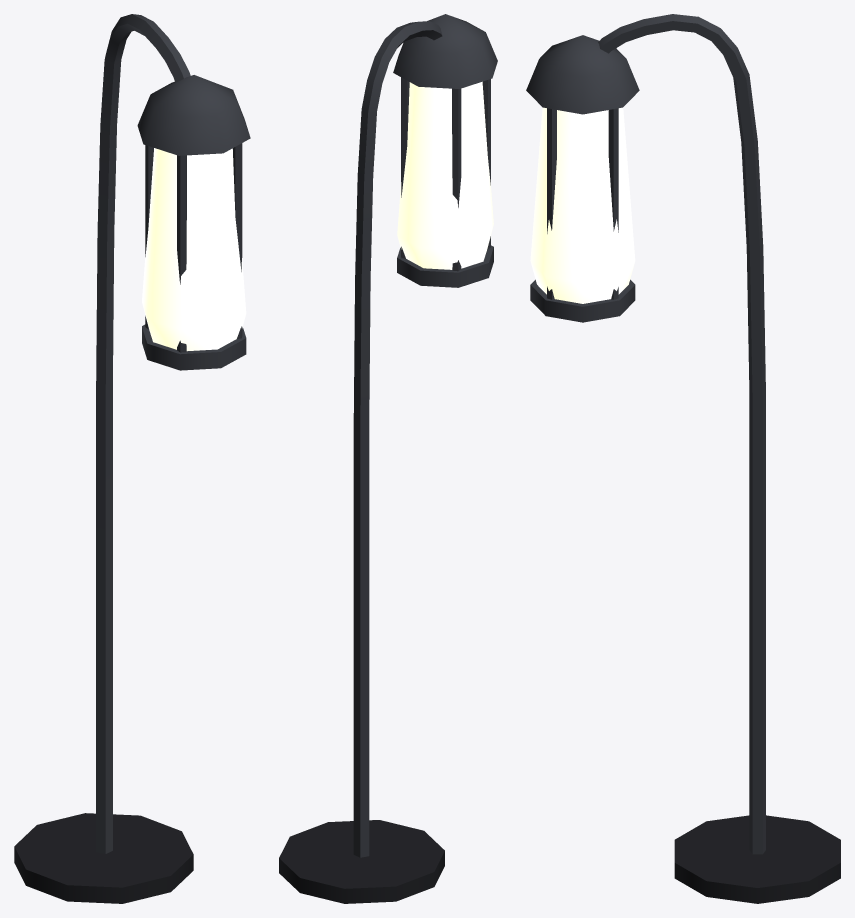
The model's file is garden_lantern_hook.glb.
The picture shows the model from 3 angles, left to right: view 1: azimuth 30°, elevation 25°; view 2: azimuth 150°, elevation 25°; view 3: azimuth 270°, elevation 25°; orthographic projection. The views are drawn at different scales.
Parts seen in each view (by area): view 1: garden_lantern_hook; view 2: garden_lantern_hook; view 3: garden_lantern_hook.
Boxes of the visible parts, x1,y1,x2,y2 form: garden_lantern_hook: (14,14,250,903); garden_lantern_hook: (279,14,497,903); garden_lantern_hook: (526,14,840,903).
Size of the model in its own units: 0.4 by 2.15 by 0.7202.
